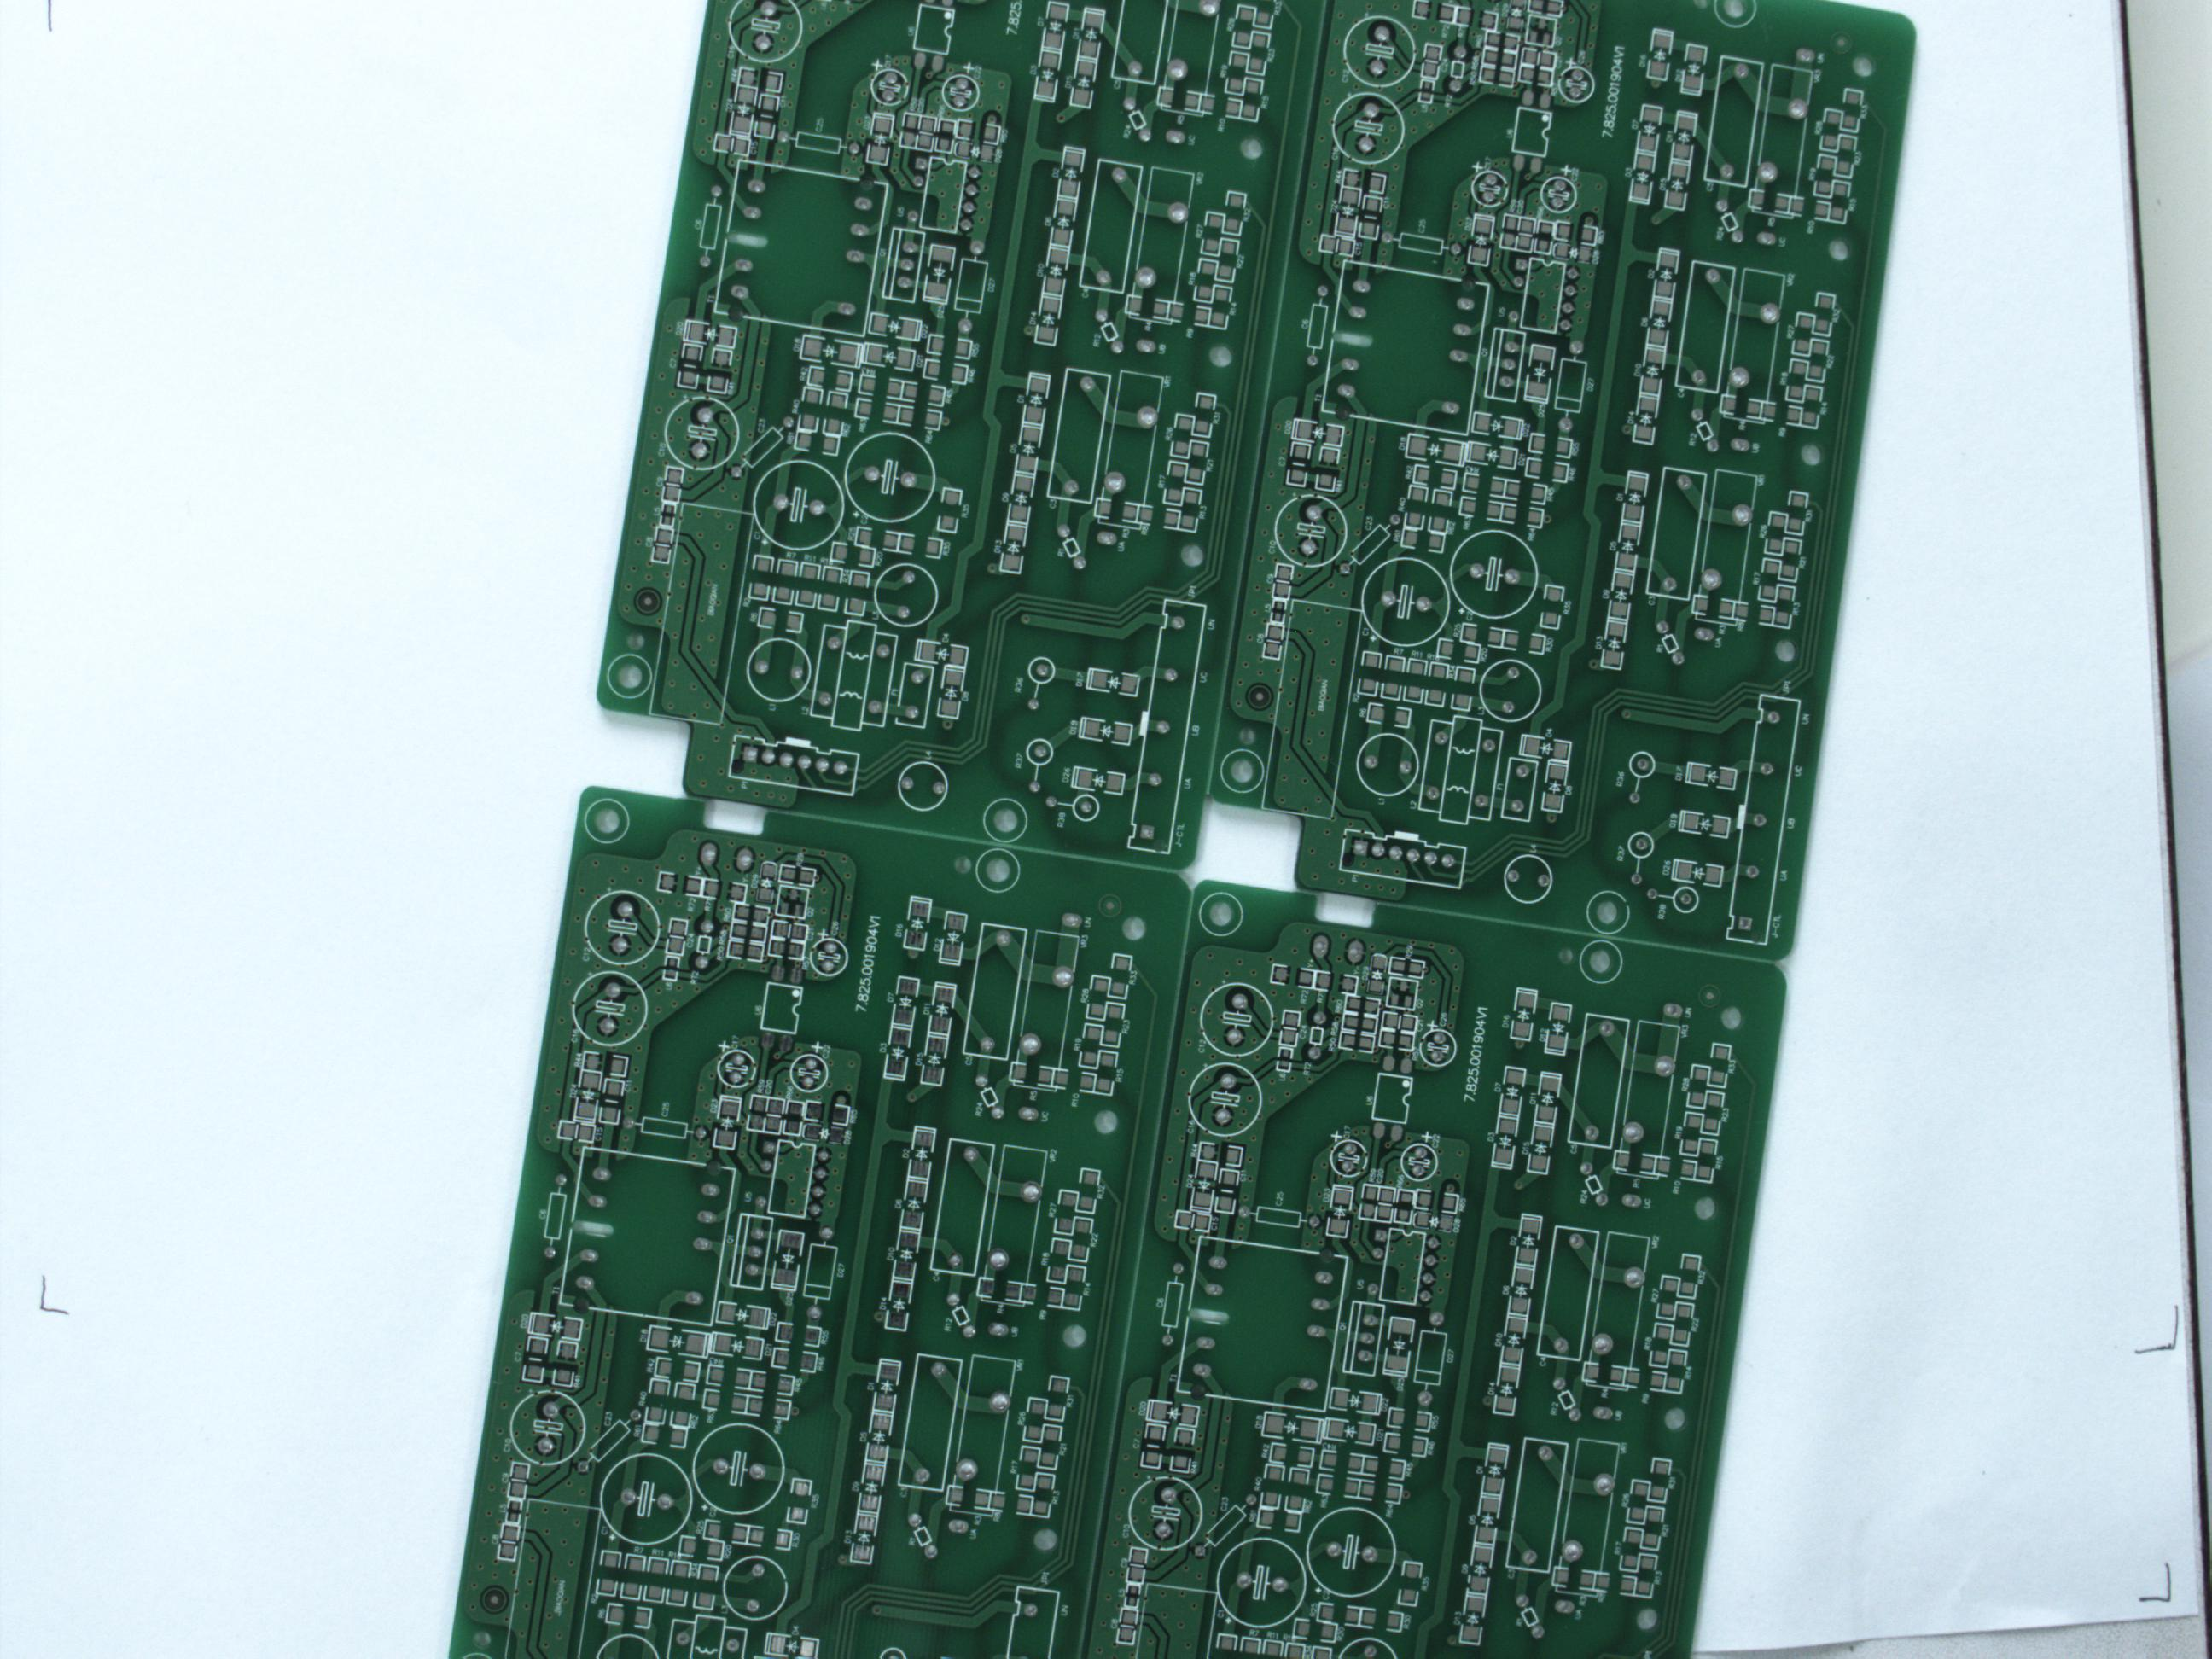ma: (606, 650, 655, 702), (981, 795, 1029, 845), (974, 849, 1026, 896), (583, 795, 631, 845), (1219, 746, 1266, 796), (1585, 887, 1632, 936), (1197, 892, 1247, 938), (1578, 941, 1625, 986), (1709, 0, 1764, 30)
